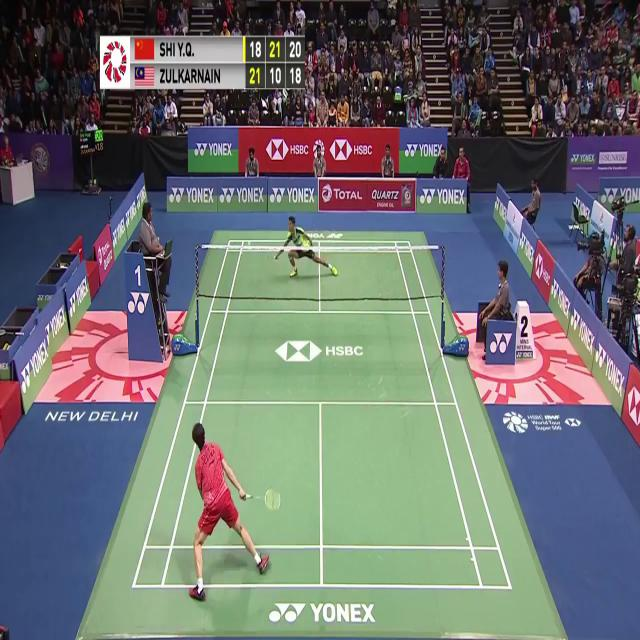Shuttlecock: (247, 238, 253, 249)
